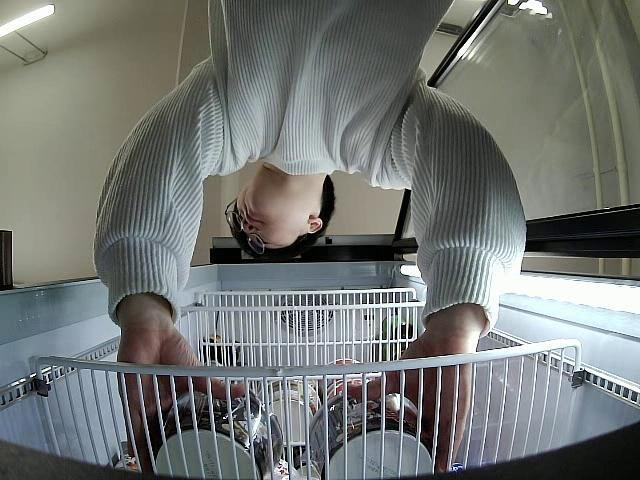07_buldak_L: (148, 381, 288, 480), (308, 387, 434, 480)
